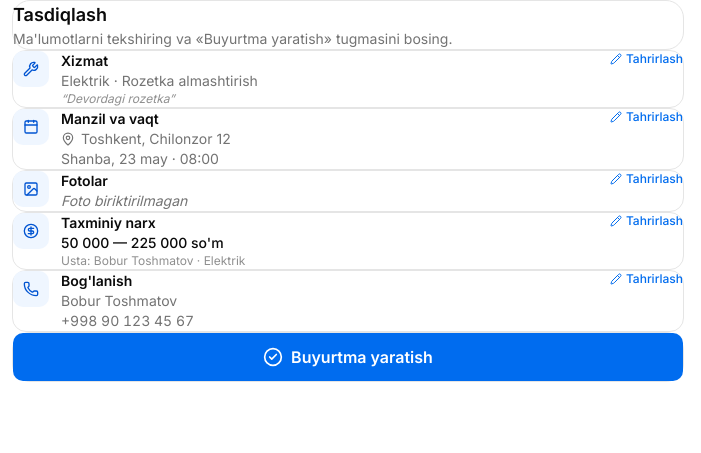
Test: Step6Confirm — submit › network xato — toast + retry tugma
Click the button with test id "step-6-submit-btn": click(348, 357) [13,333,683,381]
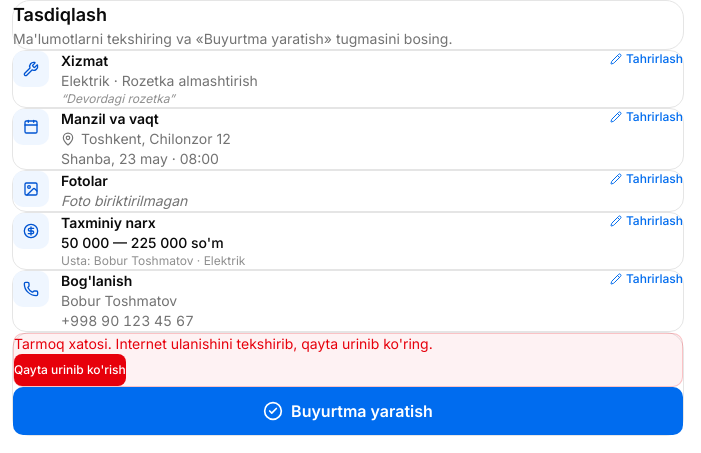
Check: the button with test id "submit-error-action" shows "Qayta urinib", box [14,354,126,386]
